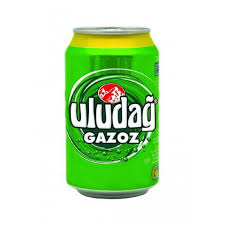can: (59, 23, 165, 205)
